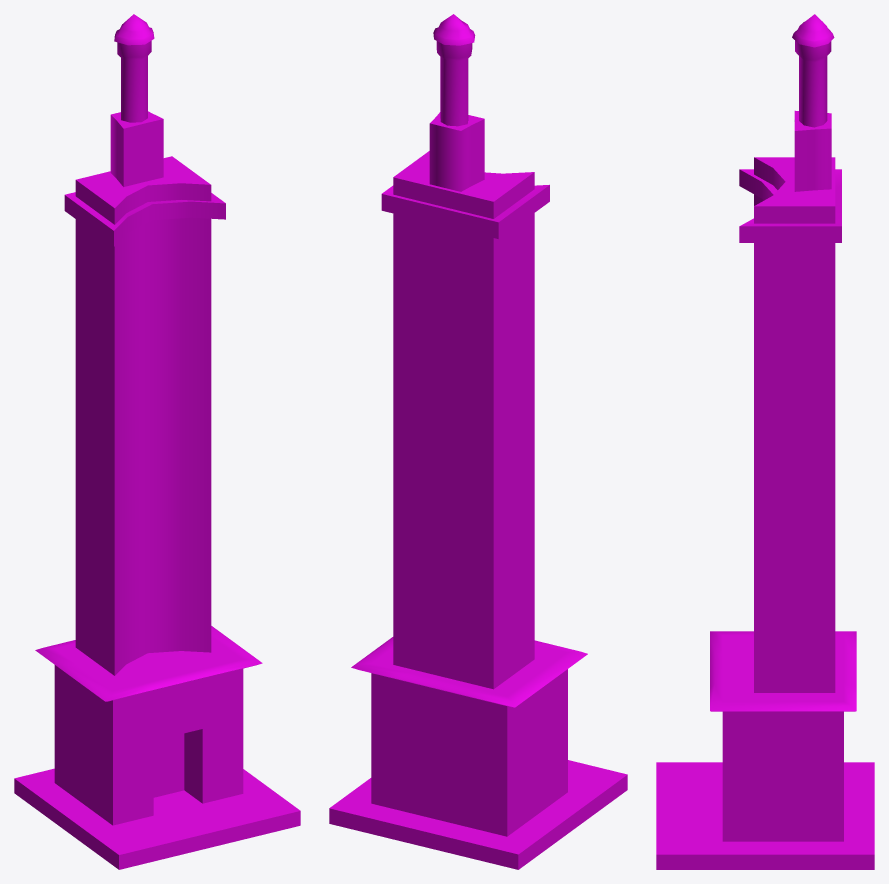
The model's file is mdl_ciudadela_Torre_cuadrada.fbx.
The picture shows the model from 3 angles, left to right: view 1: azimuth 30°, elevation 25°; view 2: azimuth 150°, elevation 25°; view 3: azimuth 270°, elevation 25°; orthographic projection. The views are drawn at different scales.
Parts seen in each view (by area): view 1: mdl_ciudadela_Torre_cuadrada; view 2: mdl_ciudadela_Torre_cuadrada; view 3: mdl_ciudadela_Torre_cuadrada.
Boxes of the visible parts, left/top/right/bottom form: mdl_ciudadela_Torre_cuadrada: left=14, top=14, right=300, bottom=869; mdl_ciudadela_Torre_cuadrada: left=329, top=14, right=627, bottom=869; mdl_ciudadela_Torre_cuadrada: left=656, top=14, right=874, bottom=869.
Bounding box in the file's own units: 3.48 × 14.24 × 3.48.
